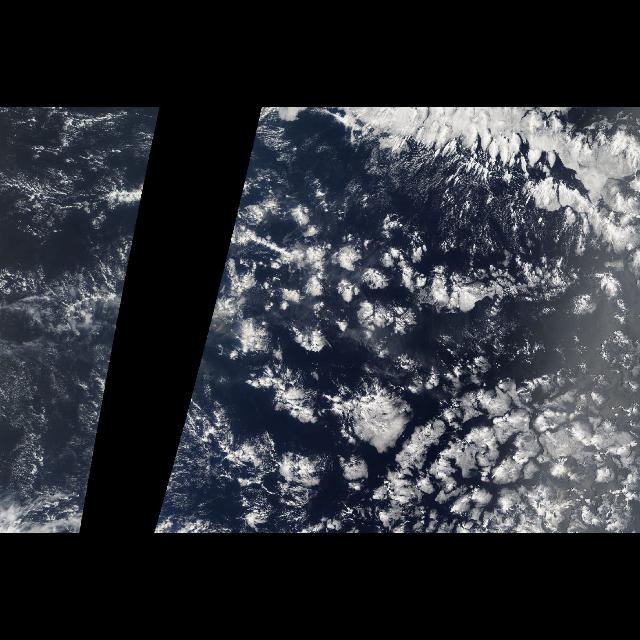Fish: (296, 110, 638, 230)
Flower: (224, 199, 634, 529)
Gravel: (4, 115, 128, 292)
